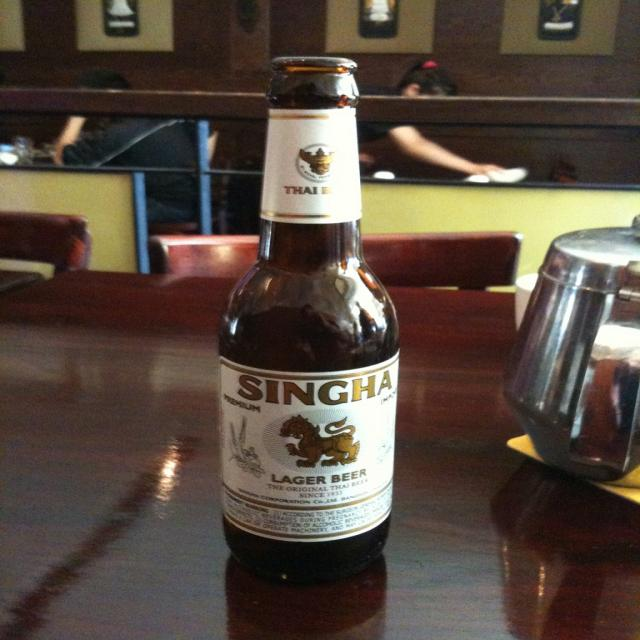singha: (221, 361, 399, 512)
